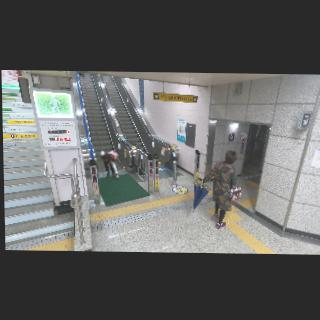anomaly: (98, 150, 121, 179)
normal: (201, 146, 242, 230)
